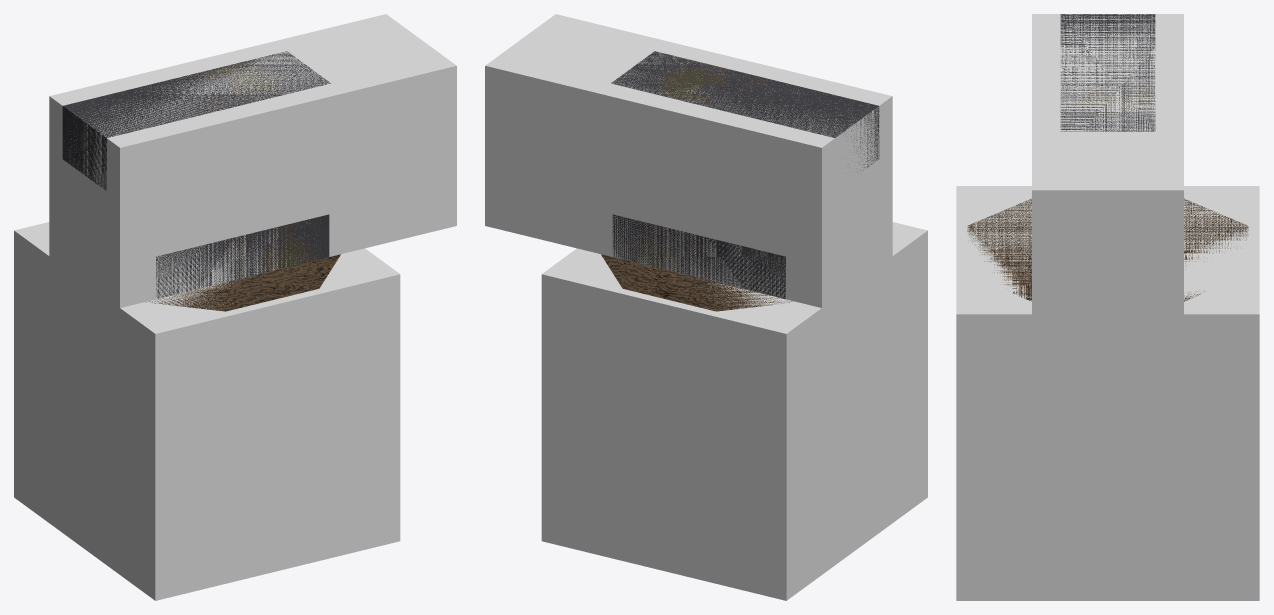
The model's file is anvil.glb.
The picture shows the model from 3 angles, left to right: view 1: azimuth 30°, elevation 25°; view 2: azimuth 150°, elevation 25°; view 3: azimuth 270°, elevation 25°; orthographic projection. The views are drawn at different scales.
Visible parts, largest first — view 1: COL_HULL_block, COL_HULL_anvil, anvil; view 2: COL_HULL_block, COL_HULL_anvil, anvil; view 3: COL_HULL_block, COL_HULL_anvil, anvil.
Boxes of the visible parts, x1=… form: COL_HULL_block: x1=14, y1=222, x2=400, y2=600; COL_HULL_anvil: x1=49, y1=14, x2=456, y2=307; anvil: x1=62, y1=51, x2=340, y2=311; COL_HULL_block: x1=541, y1=222, x2=927, y2=600; COL_HULL_anvil: x1=485, y1=14, x2=892, y2=307; anvil: x1=601, y1=51, x2=879, y2=311; COL_HULL_block: x1=956, y1=186, x2=1259, y2=600; COL_HULL_anvil: x1=1032, y1=14, x2=1183, y2=362; anvil: x1=967, y1=14, x2=1248, y2=301.
Size of the model in its own units: 0.66 by 0.8 by 0.48.
2 materials, 2 textured.
